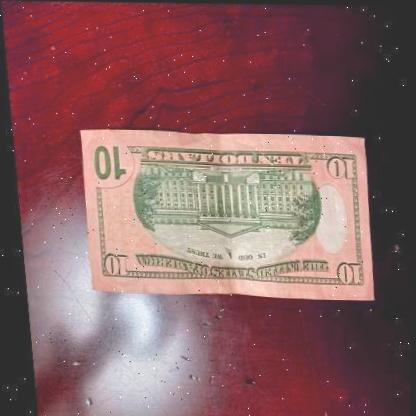dollar_back: (73, 127, 374, 298)
